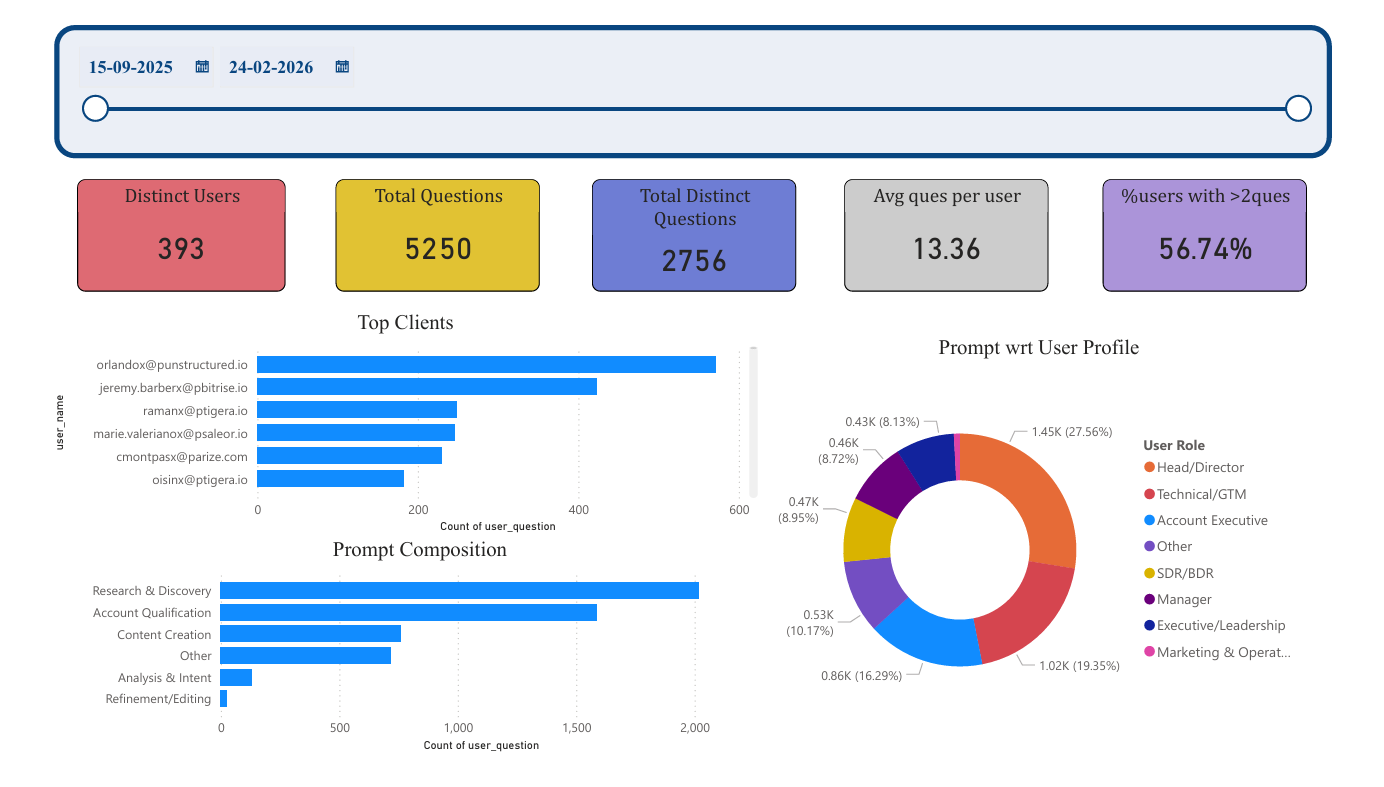

Layout of this report page (visuals, bound fields, positions):
{"tool":"powerbi","page":{"name":"Adoptive KPI","canvas":[1280,720],"ordinal":0},"visuals":[{"type":"slicer","fields":{"Values":["Raw.question_date"]},"box":[28,0,1226,128],"z":0},{"type":"card","title":"Distinct Users","fields":{"Values":["Count(Raw.user_name)"]},"box":[50,148,200,108],"z":1000},{"type":"card","title":"Total Questions","fields":{"Values":["CountNonNull(Raw.user_question)"]},"box":[298,148,196,108],"z":2000},{"type":"card","title":"Total Distinct Questions","fields":{"Values":["Count(Raw.user_question)"]},"box":[544,148,196,108],"z":3000},{"type":"card","title":"Avg ques per user","fields":{"Values":["Raw.Avg Ques per User"]},"box":[786,148,196,108],"z":4000},{"type":"card","title":"%users with >2ques","fields":{"Values":["Raw.% Users with >2 Ques"]},"box":[1034,148,196,108],"z":5000},{"type":"clusteredBarChart","title":"Prompt Composition","fields":{"Category":["Raw.Question Type"],"Y":["CountNonNull(Raw.user_question)"]},"box":[50,492,658,210],"z":6000},{"type":"clusteredBarChart","title":"Top Clients","fields":{"Category":["Raw.user_name"],"Y":["CountNonNull(Raw.user_question)"]},"box":[22,274,686,218],"z":7000},{"type":"donutChart","title":"Prompt wrt User Profile","fields":{"Category":["Raw.User Role"],"Y":["CountNonNull(Raw.user_question)"]},"box":[716,298,514,390],"z":8000}]}

Visuals, with their boxes in screenshot pixels (x1, y1, x2, y2), scaled from the page's 1280x720 canvas onto the 1384x787 screenshot:
slicer - Raw.question_date: x1=30, y1=0, x2=1356, y2=140
"Distinct Users" card: x1=54, y1=162, x2=270, y2=280
"Total Questions" card: x1=322, y1=162, x2=534, y2=280
"Total Distinct Questions" card: x1=588, y1=162, x2=800, y2=280
"Avg ques per user" card: x1=850, y1=162, x2=1062, y2=280
"%users with >2ques" card: x1=1118, y1=162, x2=1330, y2=280
"Prompt Composition" clusteredBarChart: x1=54, y1=538, x2=766, y2=767
"Top Clients" clusteredBarChart: x1=24, y1=299, x2=766, y2=538
"Prompt wrt User Profile" donutChart: x1=774, y1=326, x2=1330, y2=752
